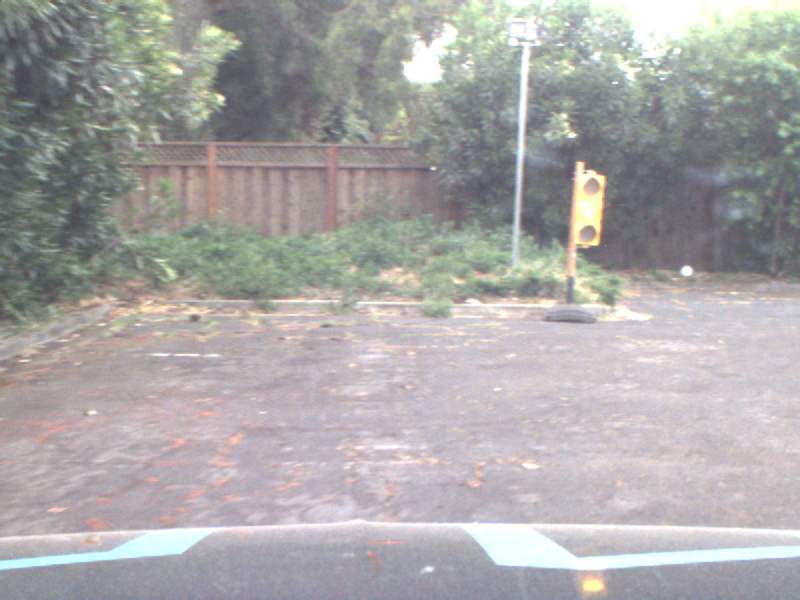Yellow: (575, 172, 605, 252)
